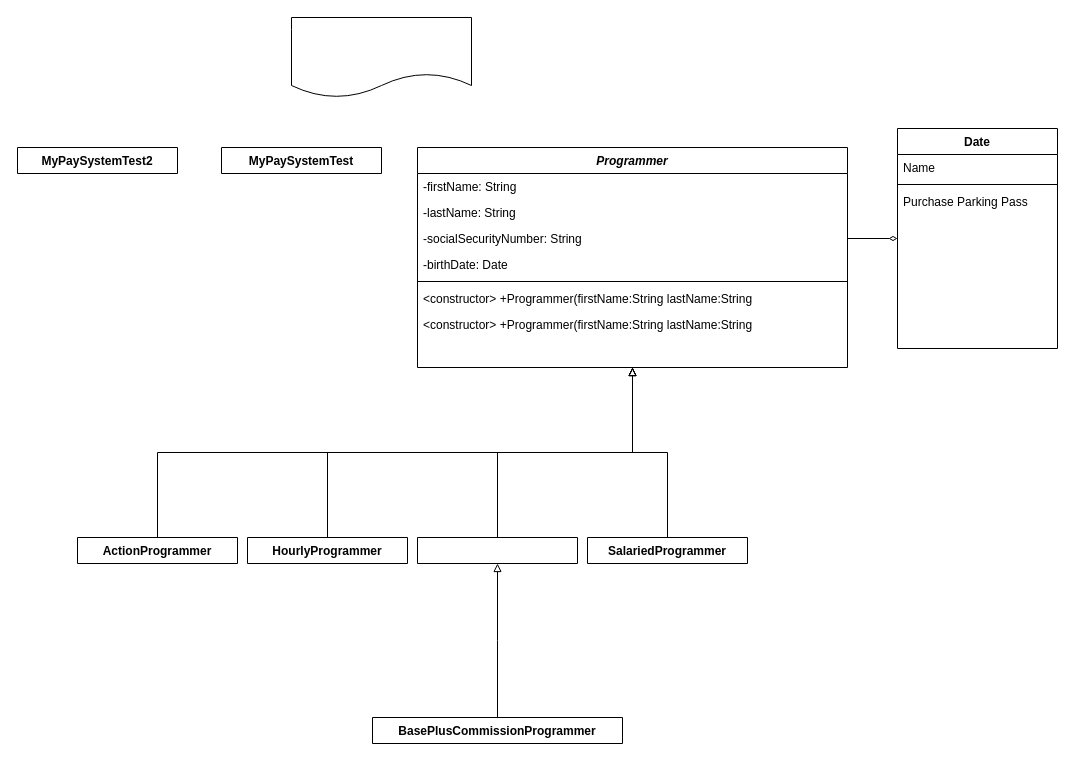
The diagram is 1075 pixels wide and 761 high, and some of its shapes have lost their labels. Here are the shapes that lost their labels. From the top down, the centre of each, then its label:
pixel 381 57: Diagram By Tanzim Ahmed Sagar
pixel 497 550: CommissionProgrammer
